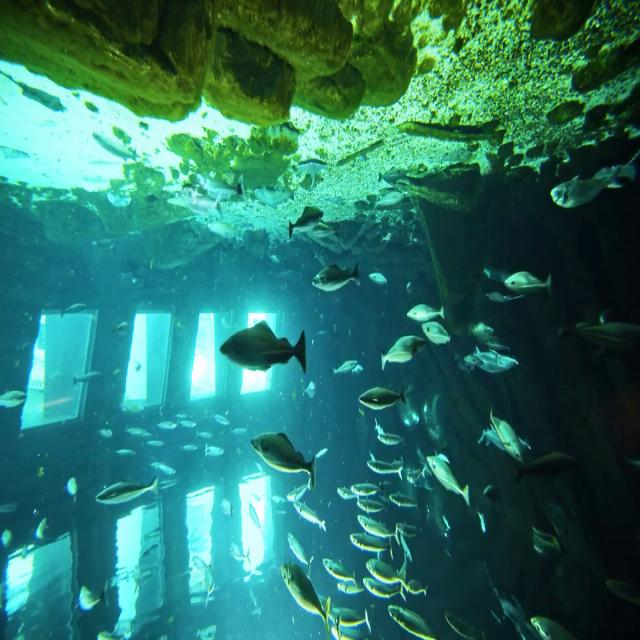fish: (216, 310, 312, 386), (244, 416, 322, 499), (555, 292, 640, 364), (538, 154, 620, 220), (282, 550, 336, 636), (84, 469, 162, 518), (422, 445, 476, 511), (302, 257, 363, 309), (515, 448, 581, 494), (385, 600, 439, 640), (284, 201, 332, 244), (290, 485, 328, 539), (377, 335, 428, 375), (356, 380, 408, 418), (404, 292, 453, 332), (489, 411, 522, 466), (442, 604, 490, 640), (346, 530, 390, 568), (69, 575, 111, 613), (504, 268, 554, 298), (281, 525, 311, 570), (360, 260, 390, 300), (346, 481, 386, 509), (354, 575, 392, 601), (419, 324, 454, 350)
